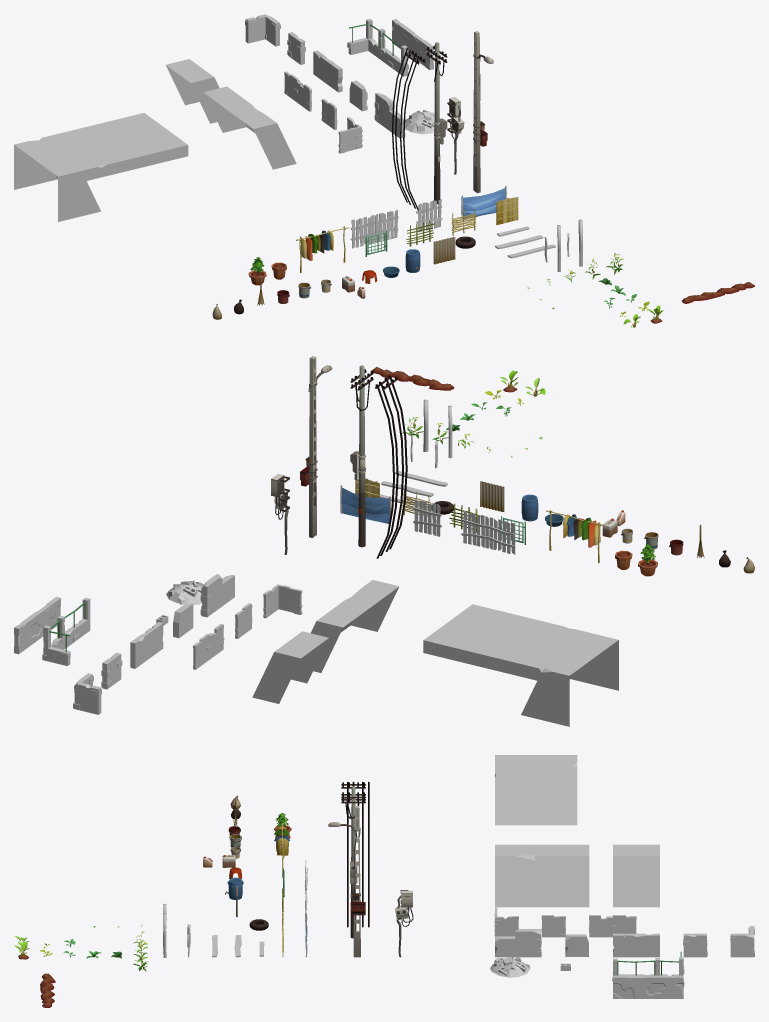
The model's file is RAC_Asset_01.fbx.
3 views of the same model, one above another, from view 1: azimuth 30°, elevation 25°; view 2: azimuth 150°, elevation 25°; view 3: azimuth 270°, elevation 25° (orthographic). The views are drawn at different scales.
Visible parts, largest first — view 1: SM_Bridge_001, SM_CanalBorder_001, SM_Bridge_002, SM_CanalBorder_002, SM_EletricPole, SM_CABLES, SM_Barrière_005, SM_Bridge_003, SM_ElectricPole_001, SM_GreyWall_005, SM_Barrière_007, SM_GreyWall_001 (+12 smaller); view 2: SM_Bridge_001, SM_Bridge_002, SM_CanalBorder_001, SM_CanalBorder_002, SM_CABLES, SM_EletricPole, SM_Barrière_005, SM_Bridge_003, SM_ElectricPole_001, SM_Barrière_007, SM_GreyWall_001, SM_BrickWall_003 (+12 smaller); view 3: SM_CanalBorder_001, SM_CanalBorder_002, SM_Bridge_001, SM_Bridge_002, SM_Bridge_003, SM_GreyWall_001, SM_DamagedWall_015, SM_DamagedWall_004, SM_BrickWall_002, SM_EletricPole, SM_CABLES, SM_ElectricPole_001 (+8 smaller).
Boxes of the visible parts, box(x1,y1,x2,y2) form: SM_Bridge_001: box(14, 129, 122, 221); SM_CanalBorder_001: box(203, 86, 296, 169); SM_Bridge_002: box(79, 118, 166, 171); SM_CanalBorder_002: box(166, 59, 219, 123); SM_EletricPole: box(426, 42, 447, 204); SM_CABLES: box(392, 47, 419, 210); SM_Barrière_005: box(350, 209, 398, 248); SM_Bridge_003: box(123, 113, 188, 161); SM_ElectricPole_001: box(473, 31, 480, 193); SM_GreyWall_005: box(245, 14, 280, 46); SM_Barrière_007: box(461, 186, 506, 220); SM_GreyWall_001: box(374, 93, 405, 138); SM_Bridge_001: box(496, 622, 618, 726); SM_Bridge_002: box(447, 610, 545, 670); SM_CanalBorder_001: box(311, 580, 399, 672); SM_CanalBorder_002: box(252, 631, 328, 703); SM_CABLES: box(376, 375, 407, 558); SM_EletricPole: box(350, 365, 373, 547); SM_Barrière_005: box(461, 511, 515, 554); SM_Bridge_003: box(423, 604, 496, 658); SM_ElectricPole_001: box(309, 356, 316, 537); SM_Barrière_007: box(340, 485, 391, 523); SM_GreyWall_001: box(200, 574, 234, 617); SM_BrickWall_003: box(263, 584, 302, 618); SM_CanalBorder_001: box(495, 844, 589, 907); SM_CanalBorder_002: box(613, 844, 659, 907); SM_Bridge_001: box(495, 755, 577, 784); SM_Bridge_002: box(495, 785, 577, 815); SM_Bridge_003: box(495, 805, 577, 825); SM_GreyWall_001: box(495, 929, 541, 957); SM_DamagedWall_015: box(613, 933, 659, 957); SM_DamagedWall_004: box(613, 975, 659, 998); SM_BrickWall_002: box(589, 915, 636, 937); SM_EletricPole: box(341, 786, 365, 938); SM_CABLES: box(347, 781, 369, 927); SM_ElectricPole_001: box(353, 806, 360, 957).
Bounding box in the file's own units: 21.09 × 7.17 × 31.43.
